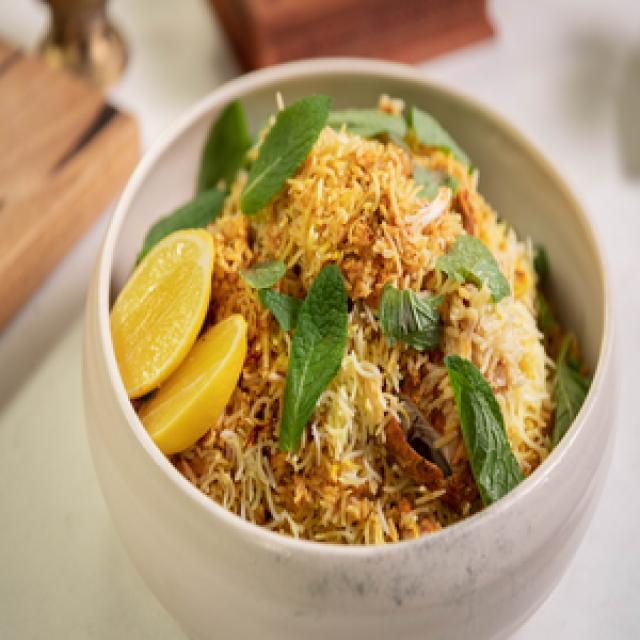chicken biriyani: (109, 62, 592, 557)
